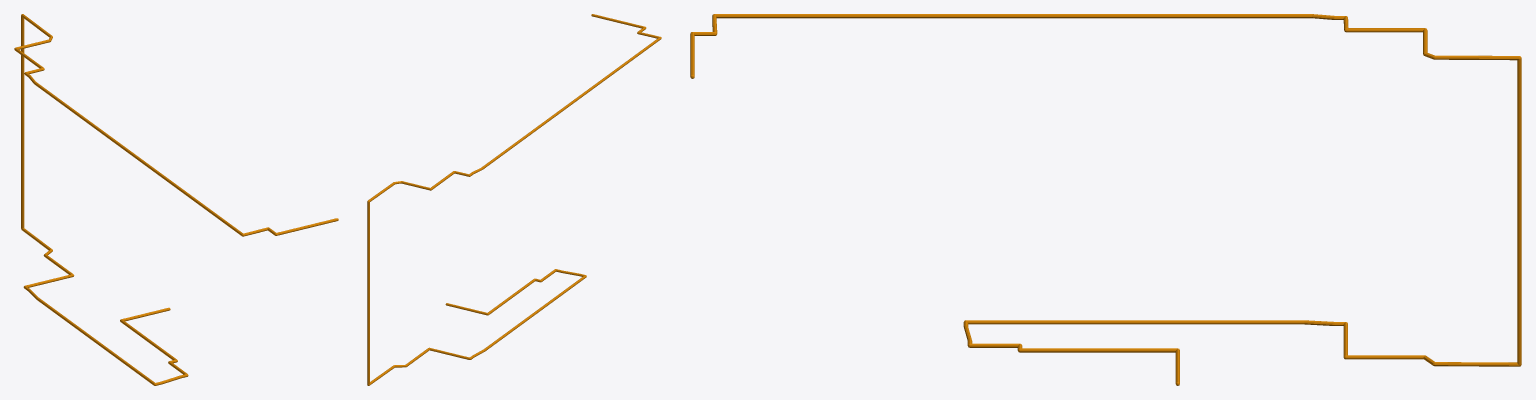
3 views of the same model, side by side, from view 1: azimuth 30°, elevation 25°; view 2: azimuth 150°, elevation 25°; view 3: azimuth 270°, elevation 25° (orthographic). The views are drawn at different scales.
Size of the model in its own units: 666 by 1520 by 3687.
